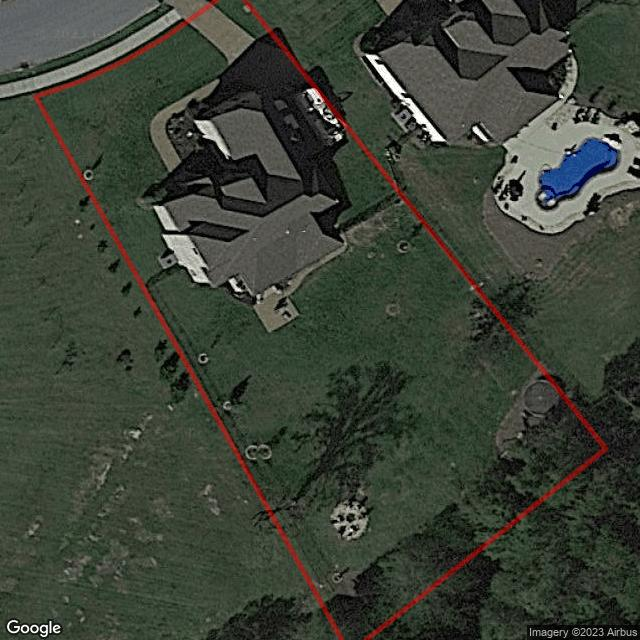Driveway: (151, 9, 342, 193)
Extra Driveway: (162, 0, 206, 18)
Extra Lawn: (1, 2, 171, 84)
House: (156, 96, 348, 314)
